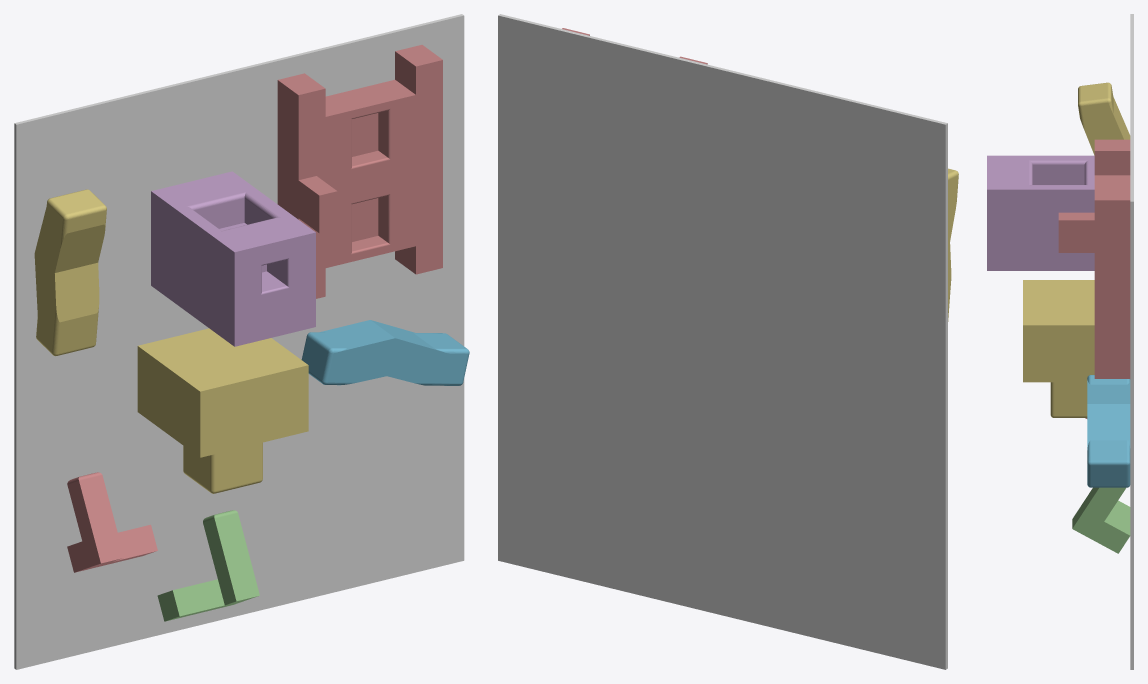
Rendered from pickup_layout.glb.
3 views of the same model, side by side, from view 1: azimuth 30°, elevation 25°; view 2: azimuth 150°, elevation 25°; view 3: azimuth 270°, elevation 25° (orthographic). The views are drawn at different scales.
Visible parts, largest first — view 1: world, 0.obj, 3.obj, 6.obj, 1.obj, 2.obj, 4.obj, 5.obj; view 2: world, 1.obj; view 3: 3.obj, 0.obj, 6.obj, 2.obj, 4.obj, world, 1.obj.
Boxes of the visible parts, x1,y1,x2,y2 form: world: [14, 14, 464, 669]; 0.obj: [277, 45, 442, 298]; 3.obj: [151, 171, 315, 346]; 6.obj: [137, 328, 308, 493]; 1.obj: [34, 189, 106, 356]; 2.obj: [301, 320, 469, 385]; 4.obj: [157, 510, 259, 621]; 5.obj: [67, 472, 157, 572]; world: [498, 14, 947, 669]; 1.obj: [948, 168, 958, 321]; 3.obj: [987, 155, 1094, 270]; 0.obj: [1058, 139, 1130, 378]; 6.obj: [1023, 280, 1094, 417]; 2.obj: [1087, 375, 1130, 487]; 4.obj: [1072, 487, 1130, 553]; world: [1130, 14, 1133, 669]; 1.obj: [1078, 82, 1130, 155].
Bounding box in the file's own units: 24.77 × 28.83 × 8.2.
